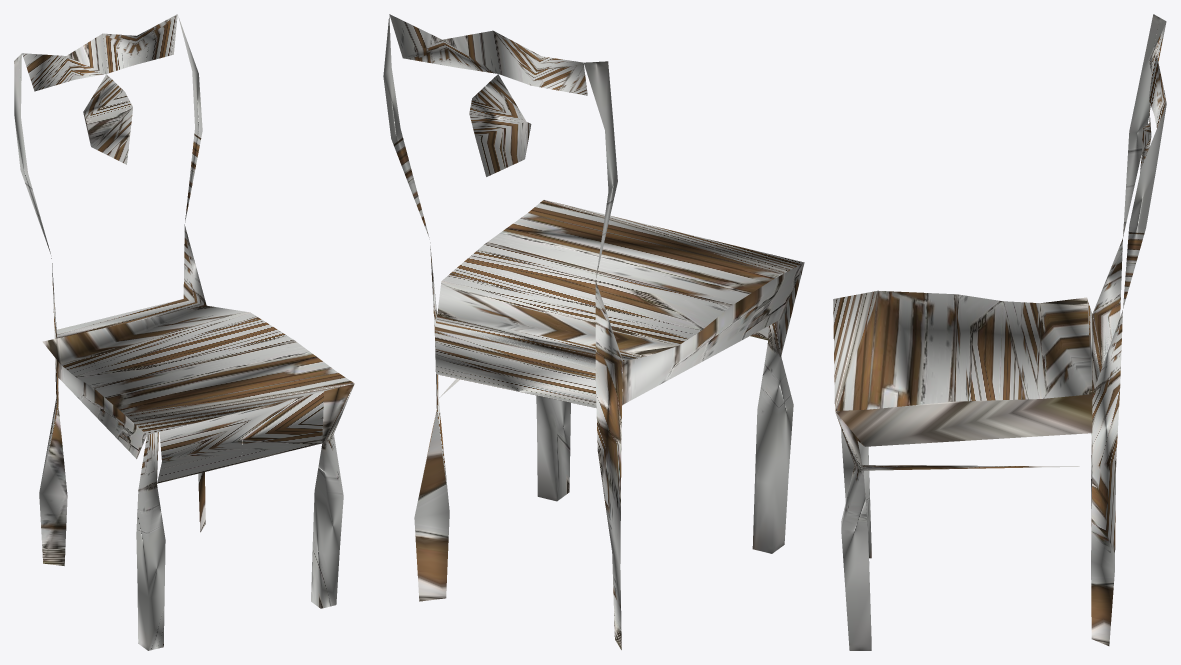
Rendered from painted_wooden_chair_01_lod1.glb.
3 renders of one model, left to right at view 1: azimuth 30°, elevation 25°; view 2: azimuth 150°, elevation 25°; view 3: azimuth 270°, elevation 25°, orthographic. The views are drawn at different scales.
Parts seen in each view (by area): view 1: painted_wooden_chair_01; view 2: painted_wooden_chair_01; view 3: painted_wooden_chair_01.
Boxes of the visible parts, <box> form: painted_wooden_chair_01: <box>14,14,354,650</box>; painted_wooden_chair_01: <box>383,14,804,649</box>; painted_wooden_chair_01: <box>833,14,1166,650</box>.
Bounding box in the file's own units: 0.4271 × 0.9565 × 0.531.
Materials: 1 (1 with a texture image).
